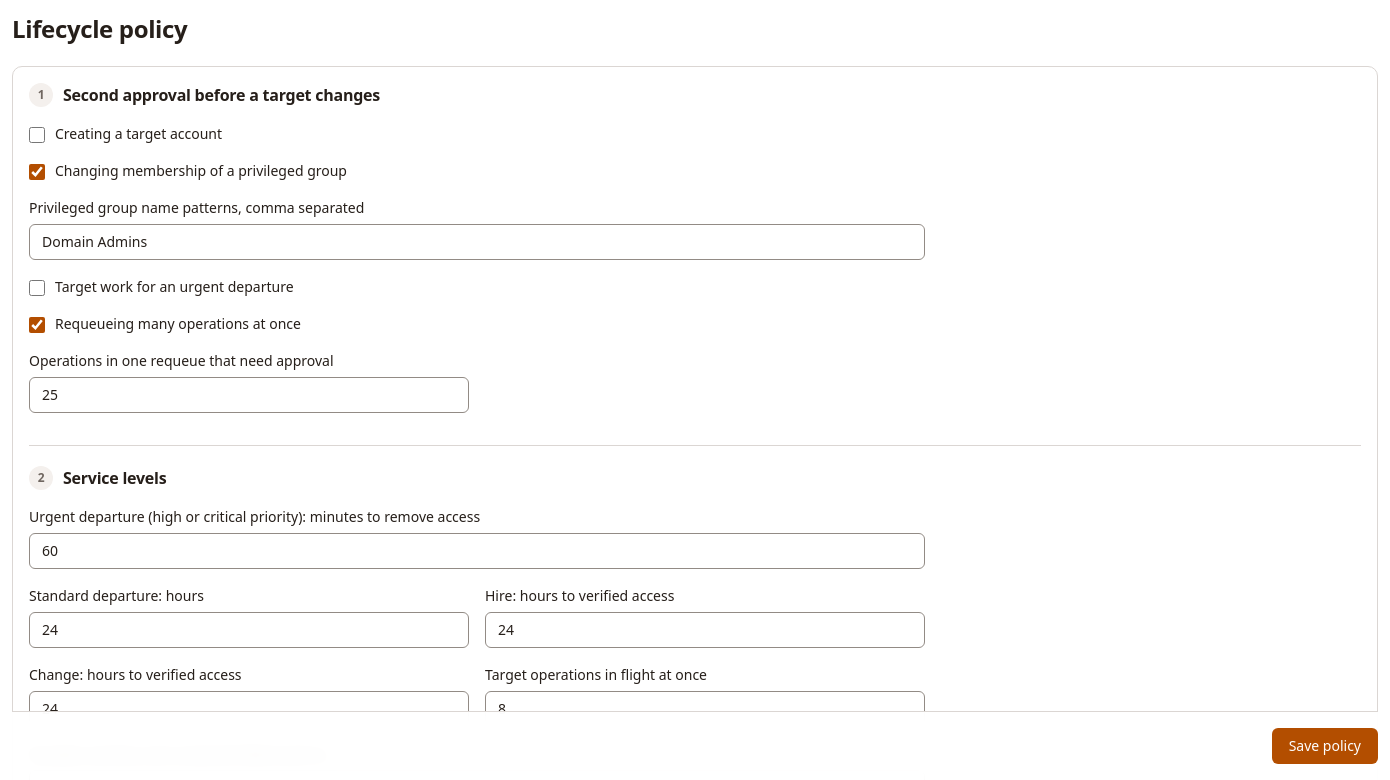
Test: LifecyclePolicyPage › puts a server refusal against the field it names
This screenshot has width=1390, height=780.
Click the button "Save policy". click: (1325, 746)
box: [1272,728,1378,764]
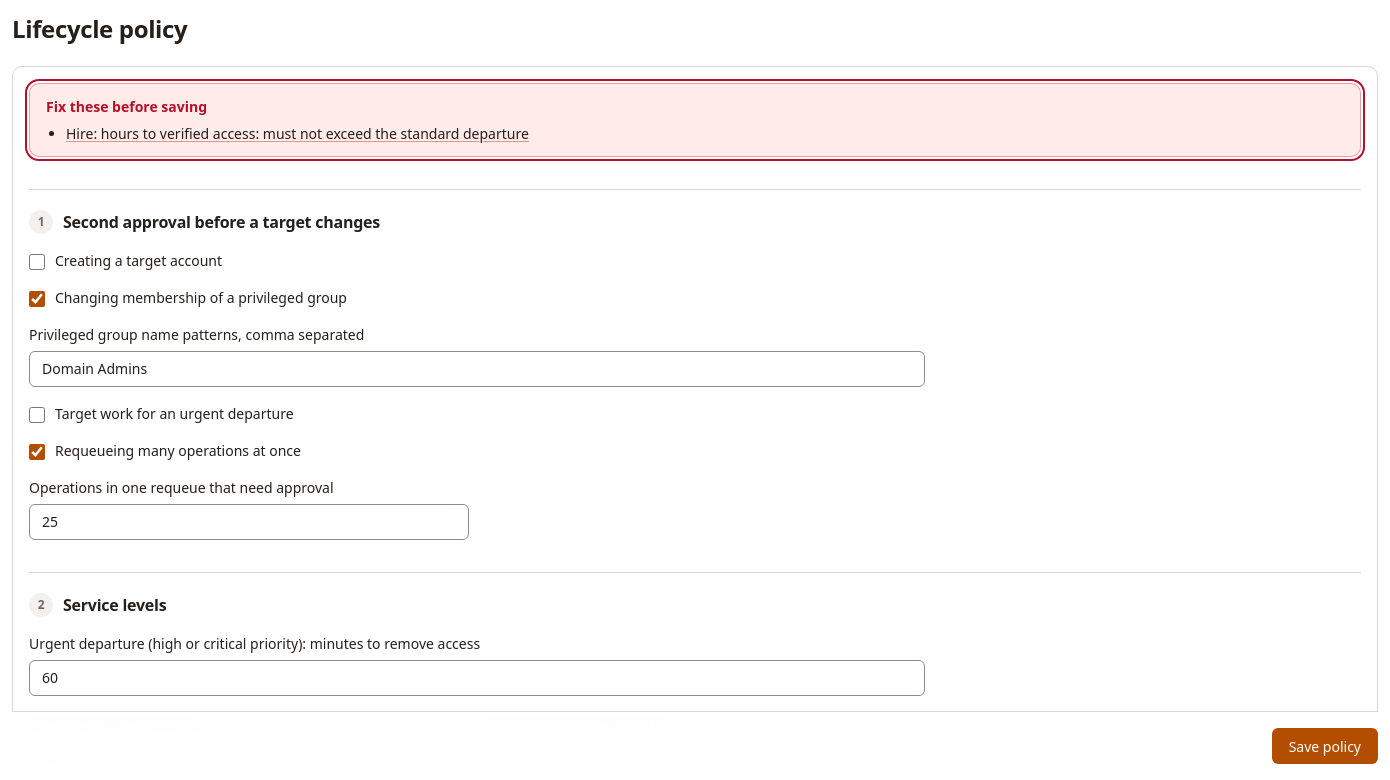
Expected: the button "Hire: hours to verified access: must not exceed the standard departure" is shown, [66,123,529,144]
